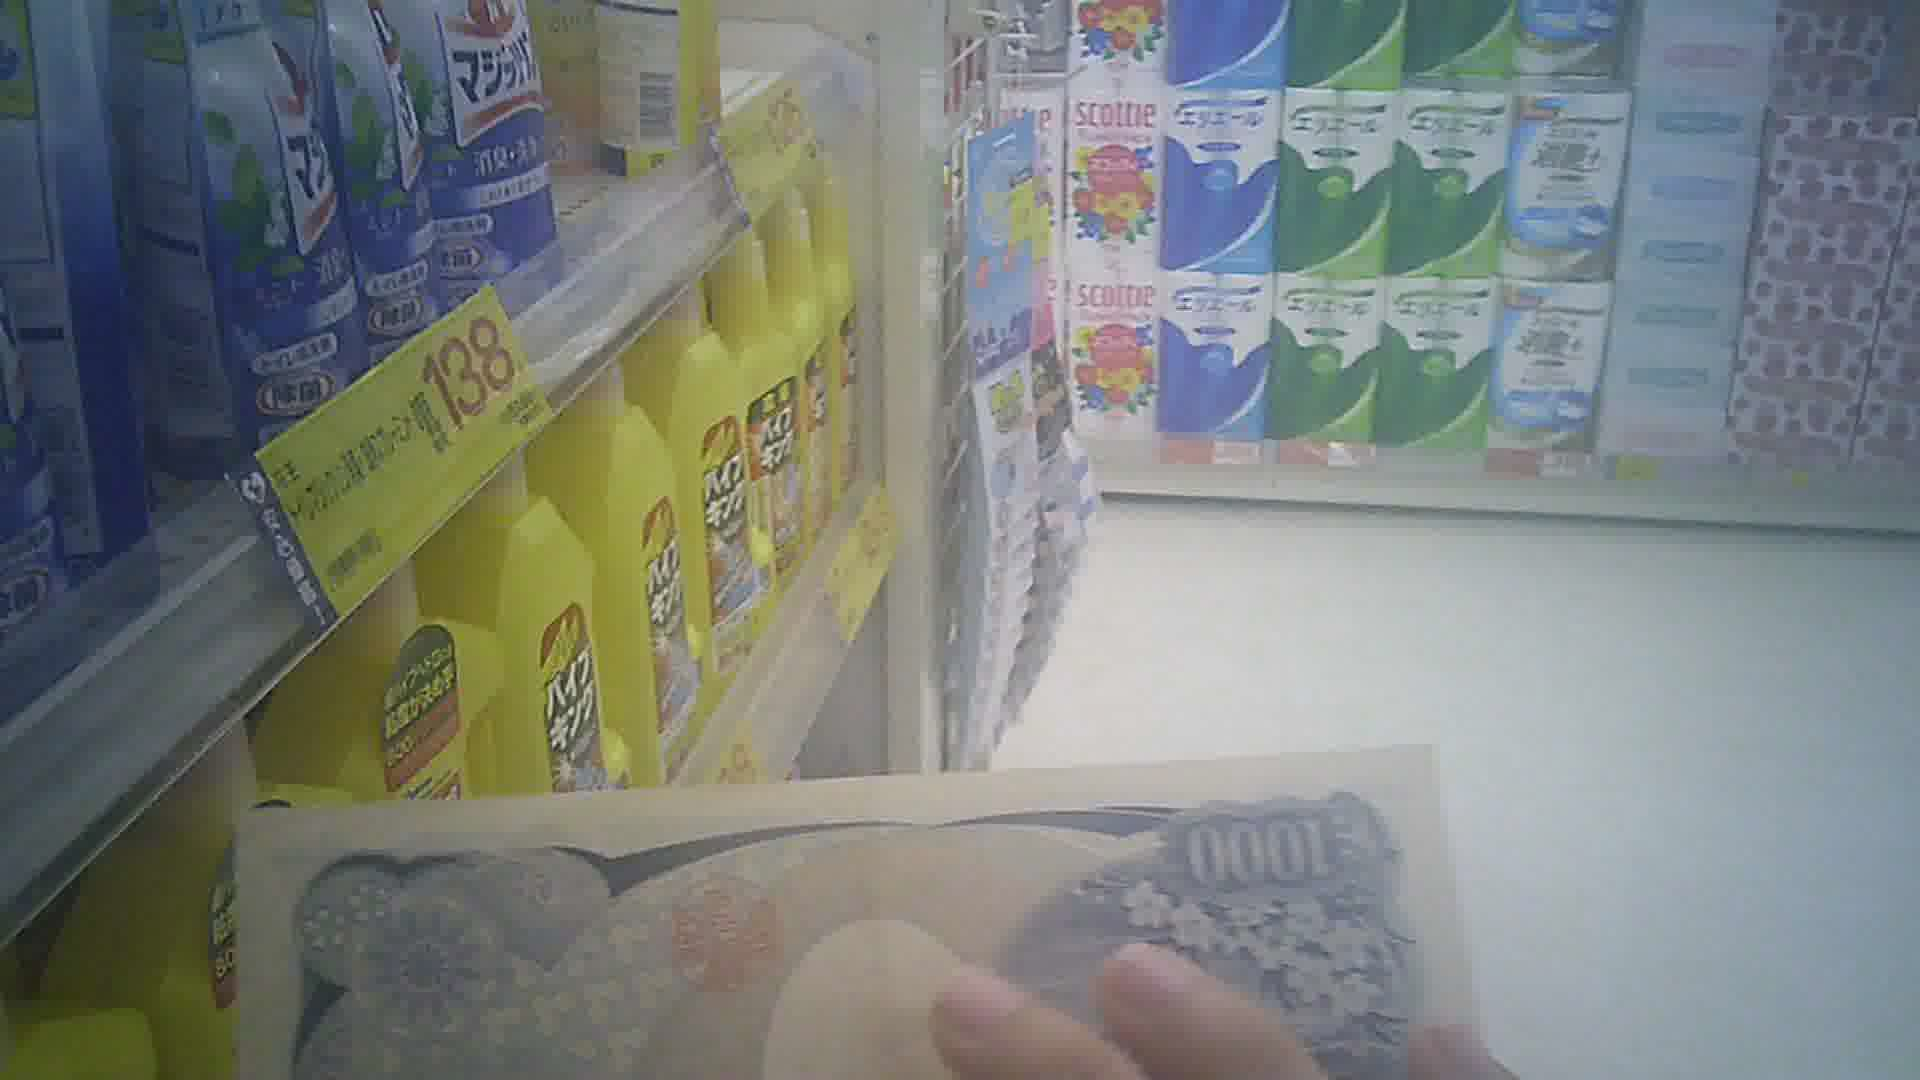1,000 Yen: (252, 742, 1462, 1073)
